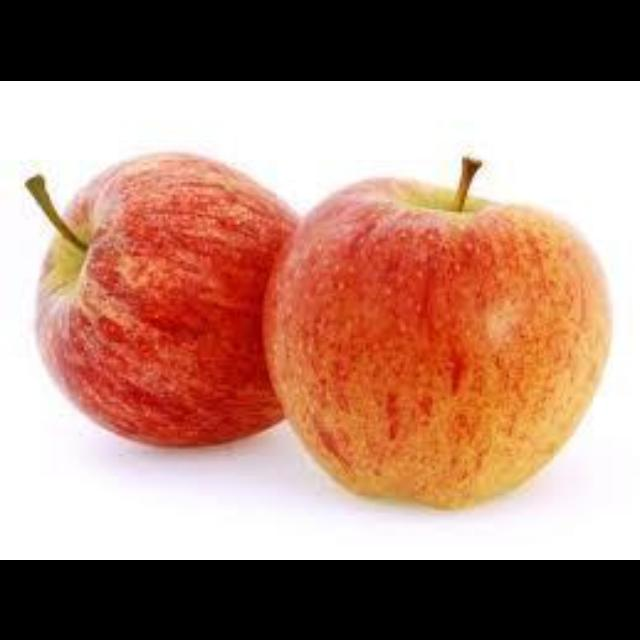apple: (264, 157, 608, 505), (27, 152, 297, 443)
